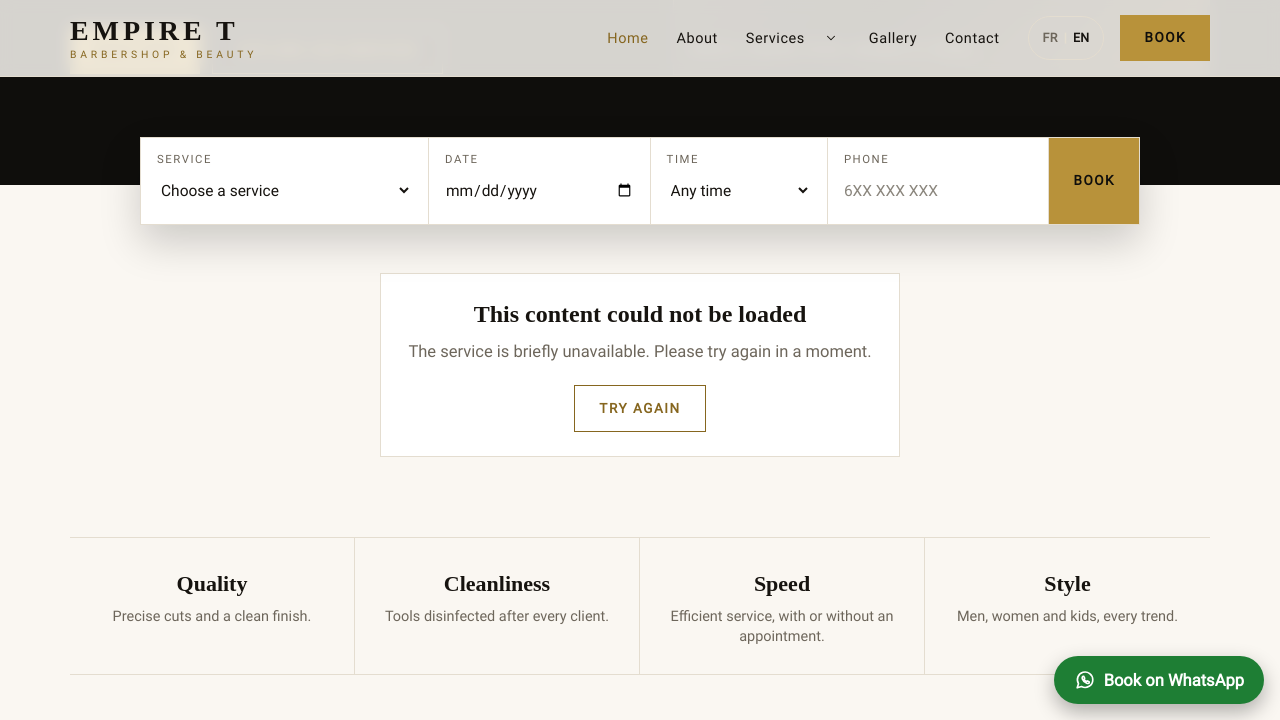
Scenario: home page › explains a network failure and retries
(page scrolled)
expect the message shows "The service is briefly unavailable": met, box [408,340,872,362]
Click the button "Try again" at coordinates (640, 408), box [574,384,706,432]
(page scrolled)
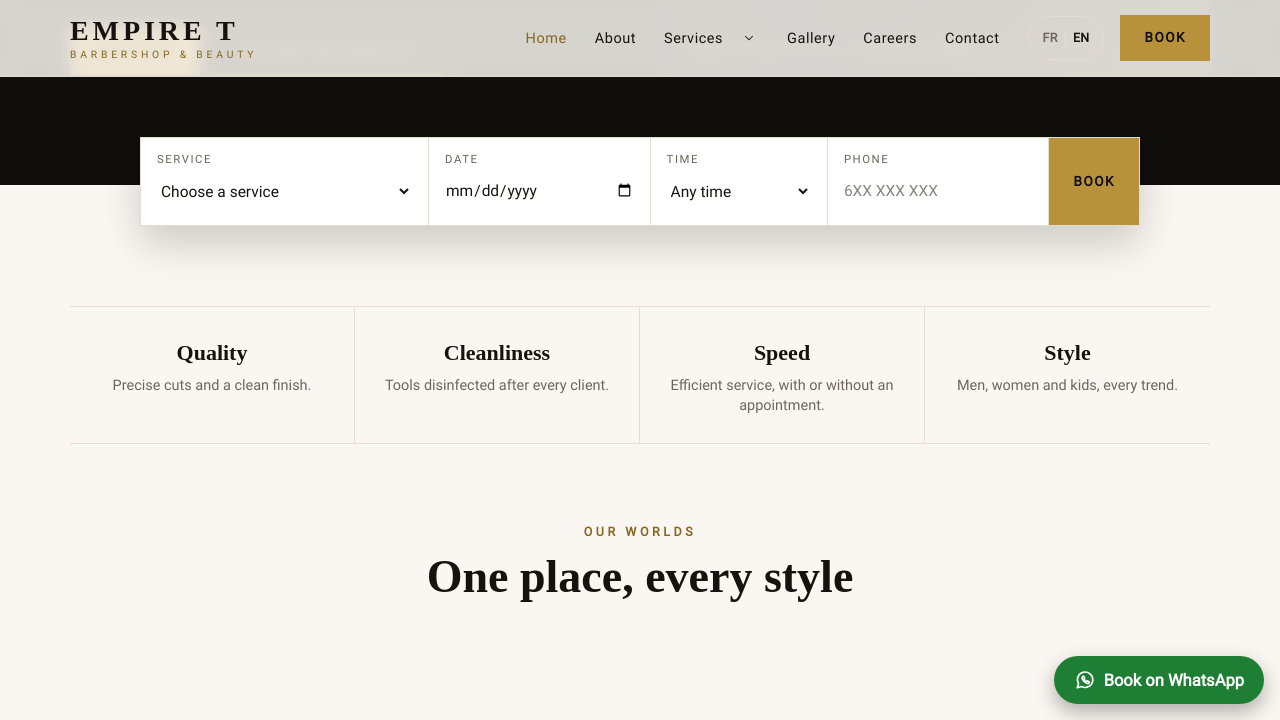
expect the message "This content could not be loaded The service is briefly unavailable. Please try" is gone: met
